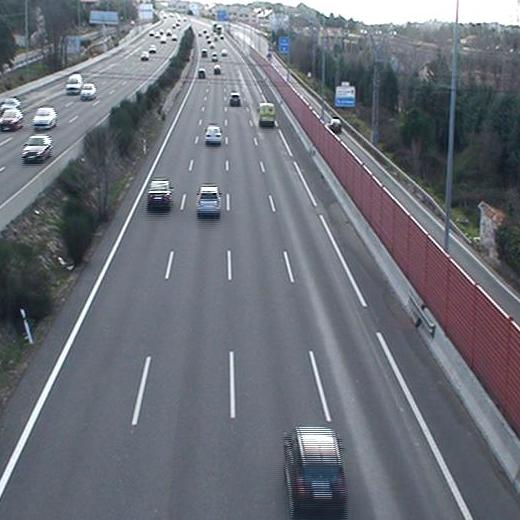car: (284, 428, 349, 506), (147, 181, 172, 212), (196, 187, 223, 215), (204, 125, 223, 144), (230, 94, 239, 108), (198, 69, 205, 79)
small-truck: (257, 103, 274, 127)
